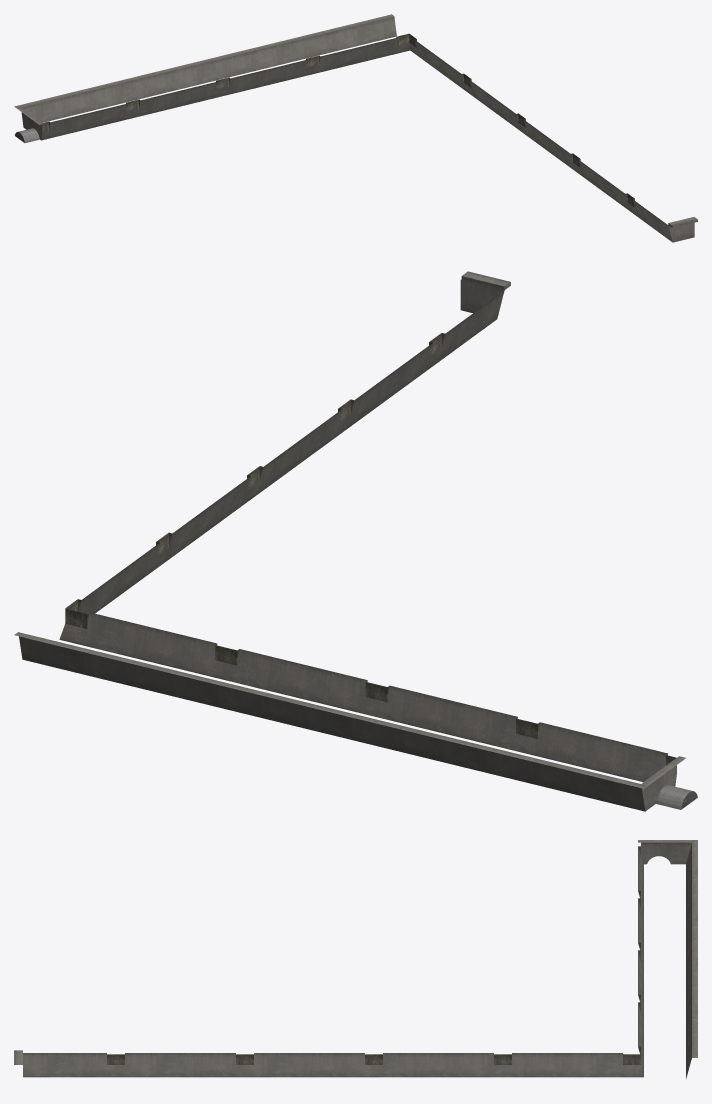
File: Bg_Cemetery_STR_Base_Wall_01.fbx
3 renders of one model, top to bottom at view 1: azimuth 30°, elevation 25°; view 2: azimuth 150°, elevation 25°; view 3: azimuth 270°, elevation 25°, orthographic. The views are drawn at different scales.
Visible parts, largest first — view 1: Bg_Cemetery_STR_Base_Wall_01; view 2: Bg_Cemetery_STR_Base_Wall_01; view 3: Bg_Cemetery_STR_Base_Wall_01.
Part boxes in pixels (left/top/right/bottom): Bg_Cemetery_STR_Base_Wall_01: left=14, top=14, right=697, bottom=242; Bg_Cemetery_STR_Base_Wall_01: left=14, top=271, right=697, bottom=811; Bg_Cemetery_STR_Base_Wall_01: left=14, top=840, right=697, bottom=1078.
Bounding box in the file's own units: 1849 × 90 × 2280.
Materials: 1 (1 with a texture image).
